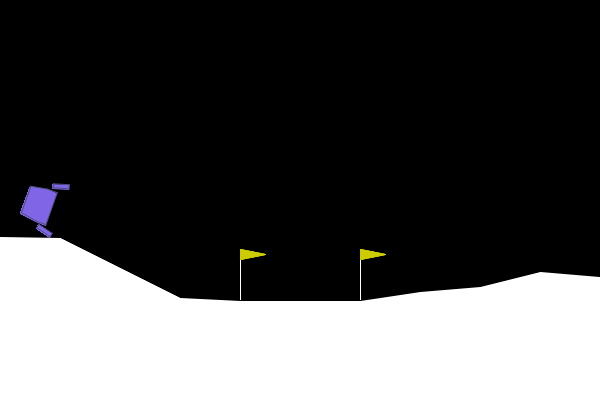lander: (14, 171, 71, 241)
